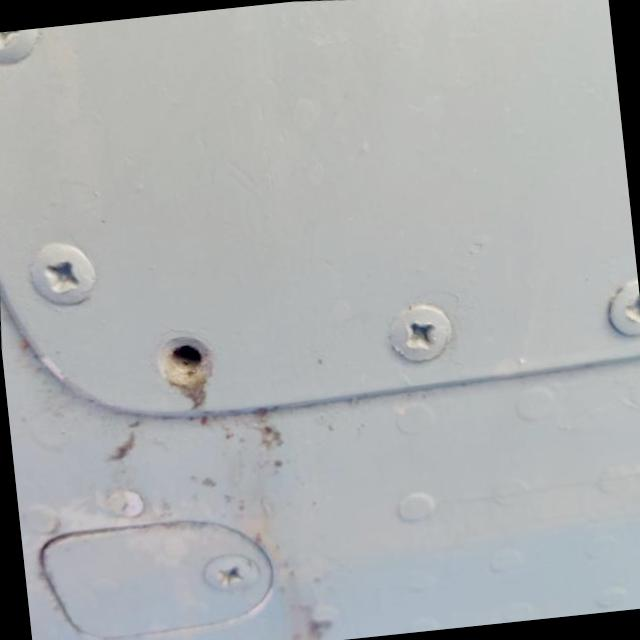Missing Fastener: (147, 332, 216, 388)
